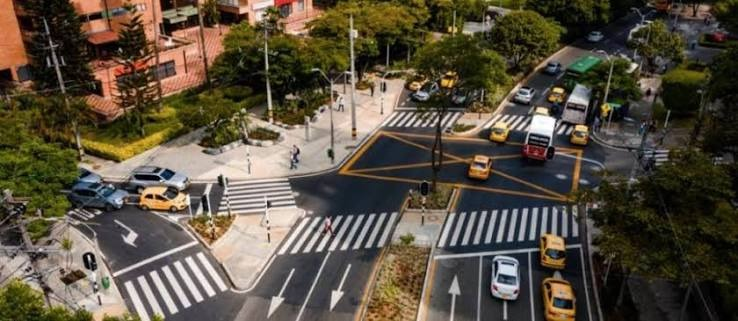car: (22, 16, 725, 309)
